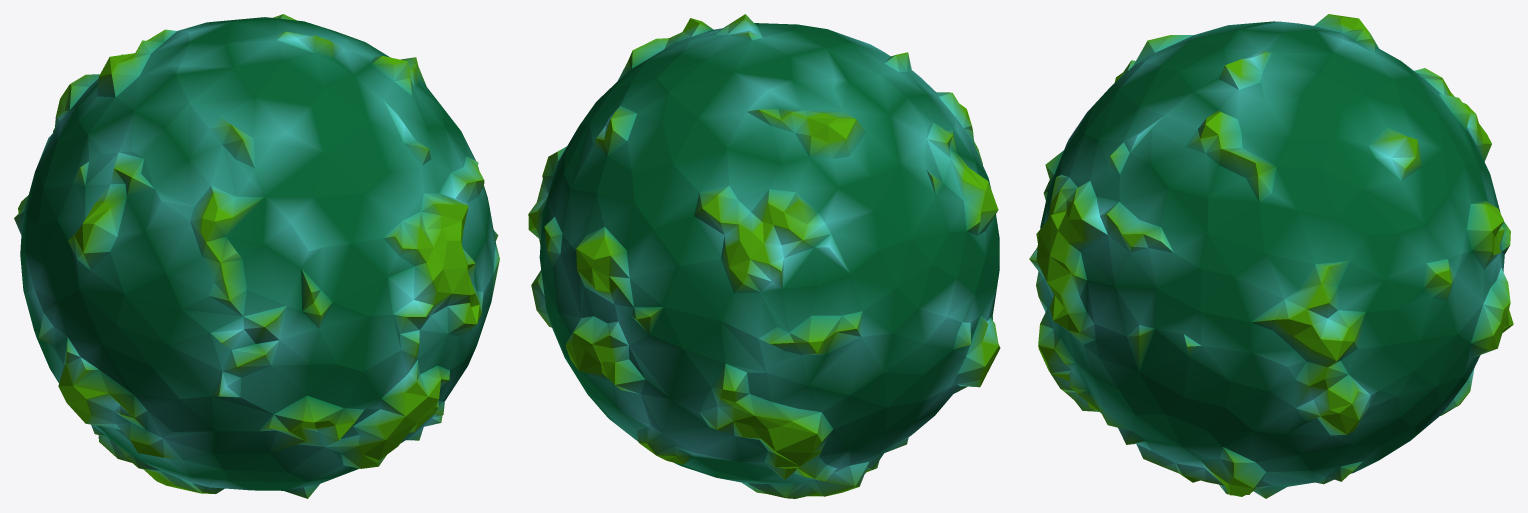
File: planet_98.fbx
3 views of the same model, side by side, from view 1: azimuth 30°, elevation 25°; view 2: azimuth 150°, elevation 25°; view 3: azimuth 270°, elevation 25° (orthographic). The views are drawn at different scales.
Visible parts, largest first — view 1: file1; view 2: file1; view 3: file1.
Part boxes in pixels (box(x1,y1,x2,y2)): file1: box(14, 14, 499, 498); file1: box(528, 14, 1000, 498); file1: box(1029, 14, 1513, 498).
Size of the model in its own units: 2.11 by 2.05 by 2.09.
